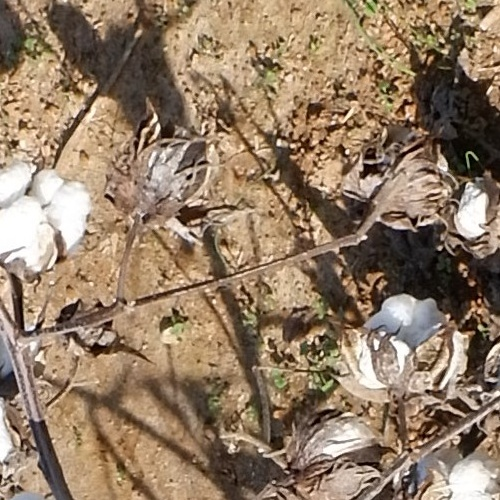mature_boll: (318, 267, 480, 415), (0, 135, 120, 284), (425, 131, 500, 255), (437, 435, 500, 500)
